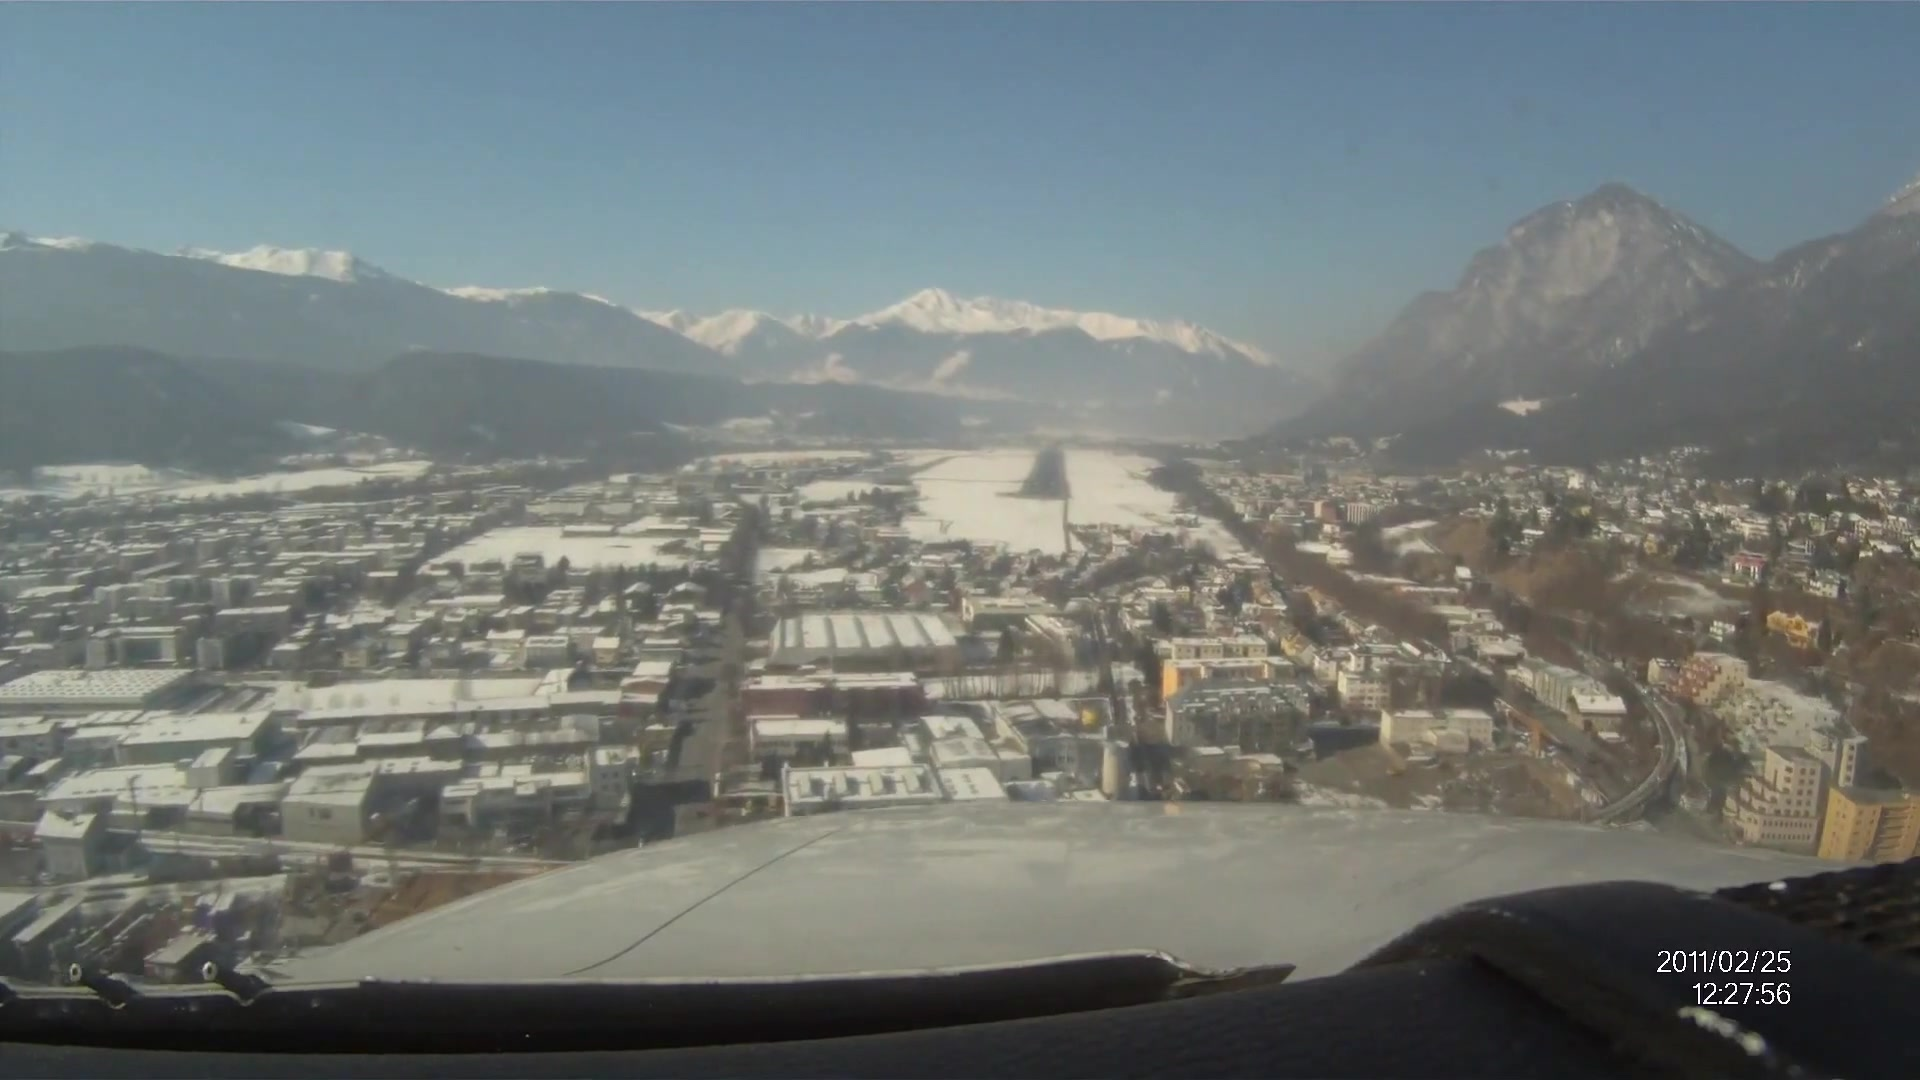runway: (1023, 443, 1062, 495)
